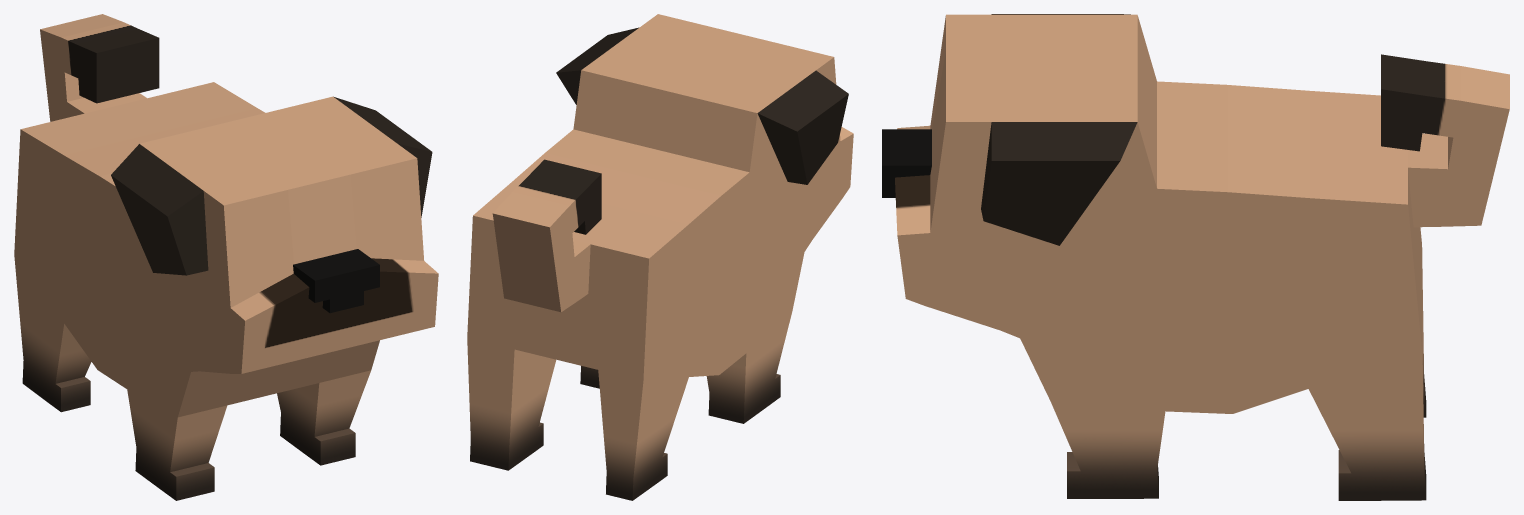
File: trump_Base_Smallfeet.fbx
3 views of the same model, side by side, from view 1: azimuth 30°, elevation 25°; view 2: azimuth 150°, elevation 25°; view 3: azimuth 270°, elevation 25° (orthographic). The views are drawn at different scales.
Parts seen in each view (by area): view 1: trump_Base_Smallfeet; view 2: trump_Base_Smallfeet; view 3: trump_Base_Smallfeet.
Boxes of the visible parts, x1=… form: trump_Base_Smallfeet: x1=14, y1=14, x2=438, y2=500; trump_Base_Smallfeet: x1=467, y1=14, x2=853, y2=500; trump_Base_Smallfeet: x1=882, y1=14, x2=1509, y2=500.
Size of the model in its own units: 2.23 by 2.7 by 4.03.
Materials: 1 (1 with a texture image).
